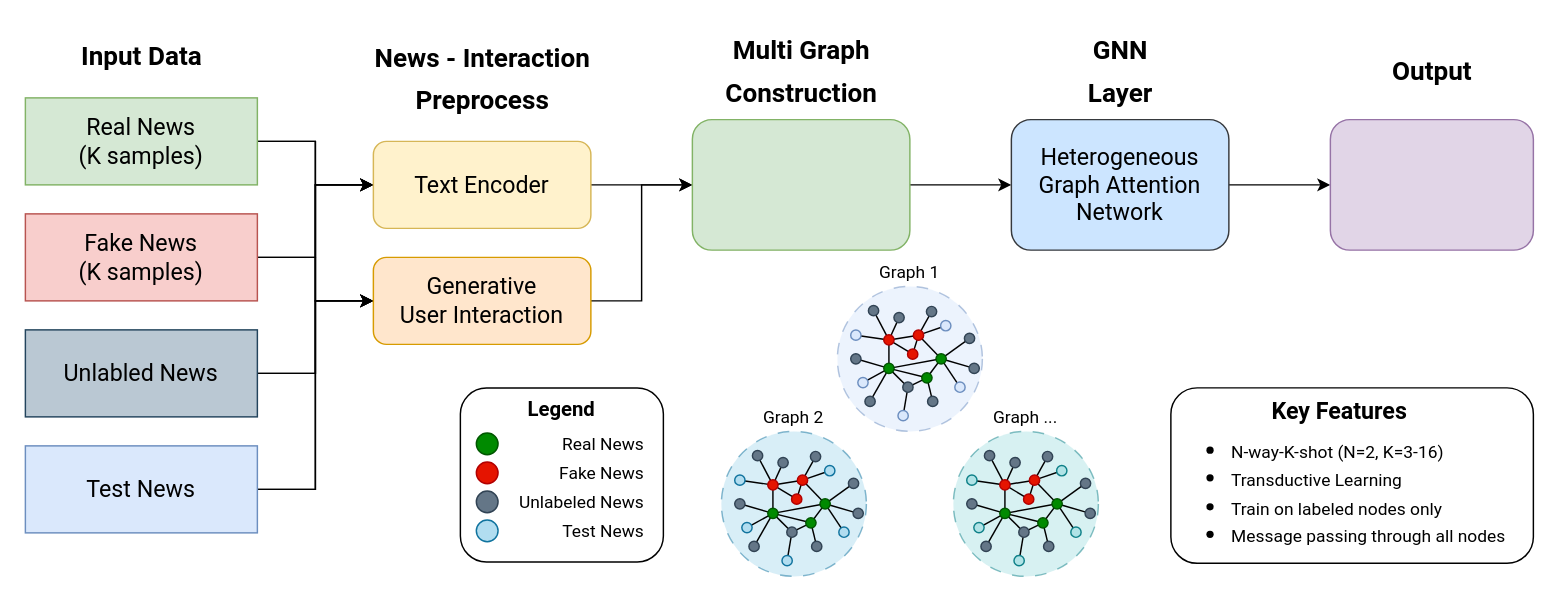
Some shapes in this 1559 by 602 pixel diagram are drawn without their labels. The shapes that lost their labels are listed below. From the top down, each one's centre as x and y in pixels, then its label:
At point (800, 184): "Test Isolated KNN Multi View Edge Construction".
At point (1431, 184): "Node Classification".
